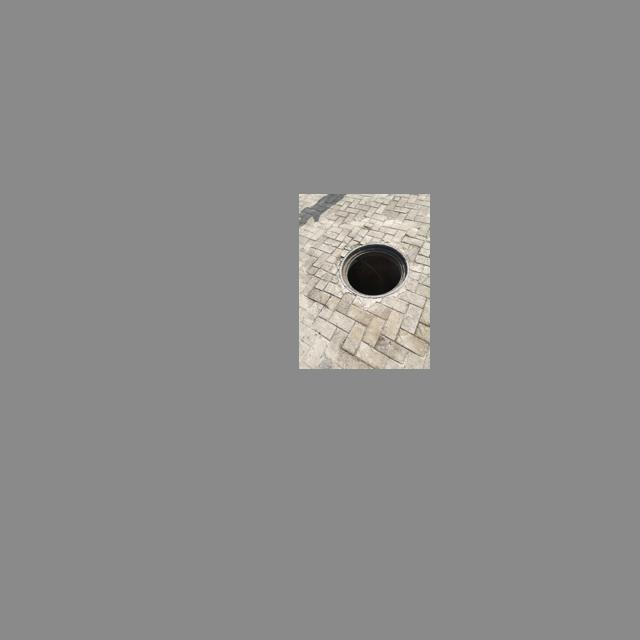lose: (335, 241, 410, 298)
